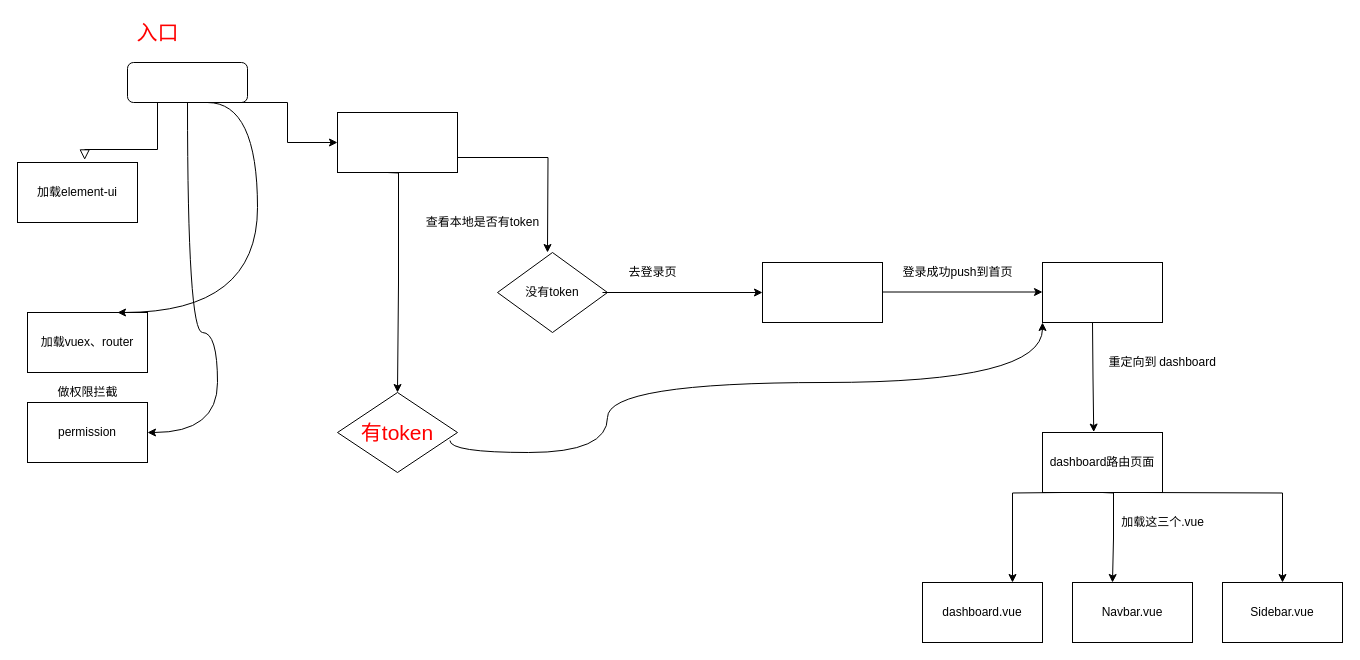
Some shapes in this 1360 by 660 pixel diagram are drawn without their labels. The centre of each missing label's shape, as x and y in pixels:
App.vue: (397,142)
login.vue: (822,292)
main.js: (187,82)
path: ' / ': (1102,292)
